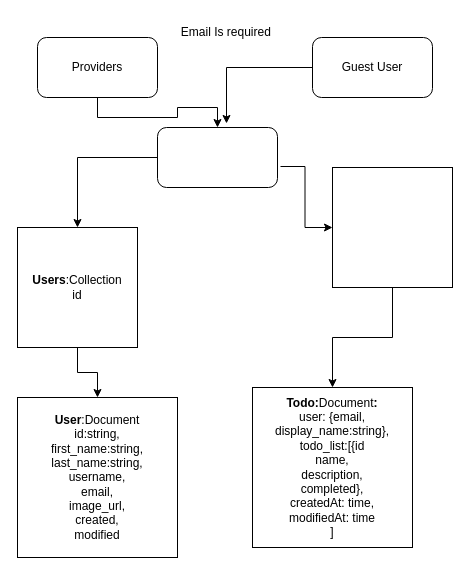
Image size: 470x575. Some labels were removed from this diagram. Here are the shapes that lost their labels. From the top down, the centre of each, then its label:
At (217,157): "AUTH".
At (392,227): "Todos: Collection id".
